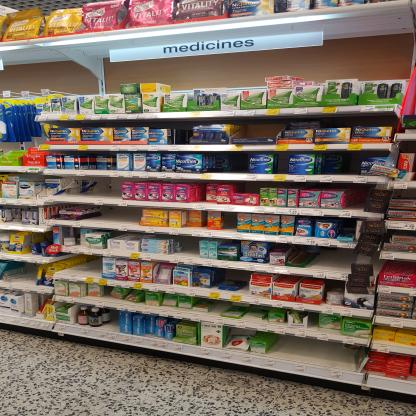empty_space: (231, 120, 278, 146), (262, 338, 305, 362), (75, 209, 136, 225), (292, 341, 329, 367), (324, 348, 356, 372), (304, 251, 340, 272), (54, 190, 118, 199), (170, 239, 198, 259), (2, 269, 37, 285), (210, 161, 248, 175), (56, 262, 95, 275), (329, 253, 351, 274), (341, 154, 361, 176), (114, 213, 141, 226), (76, 265, 101, 278), (91, 191, 121, 201), (96, 320, 118, 331), (20, 274, 35, 287), (345, 203, 365, 211), (109, 323, 119, 333)
